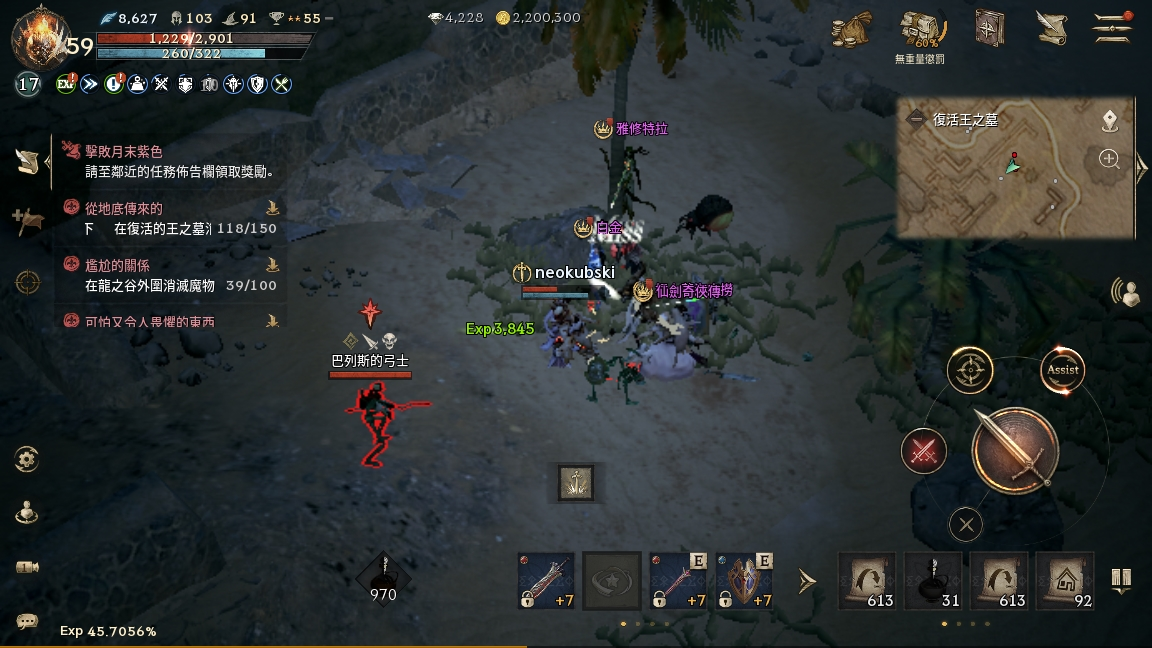enemy: (631, 276, 655, 303), (573, 215, 595, 239), (593, 116, 615, 139)
